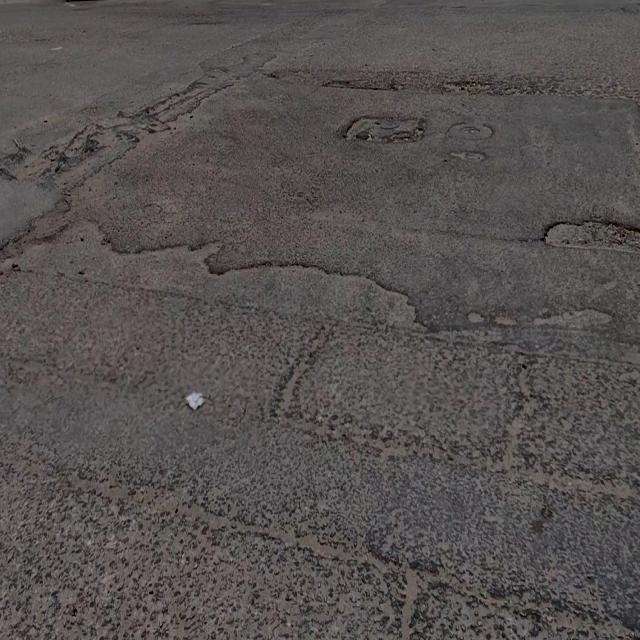Potholes: (540, 215, 640, 256), (341, 111, 427, 144)
